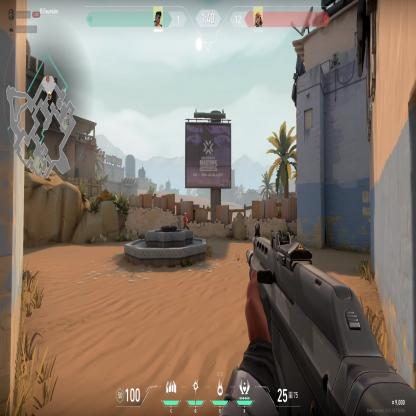enemy: (182, 212, 190, 229)
